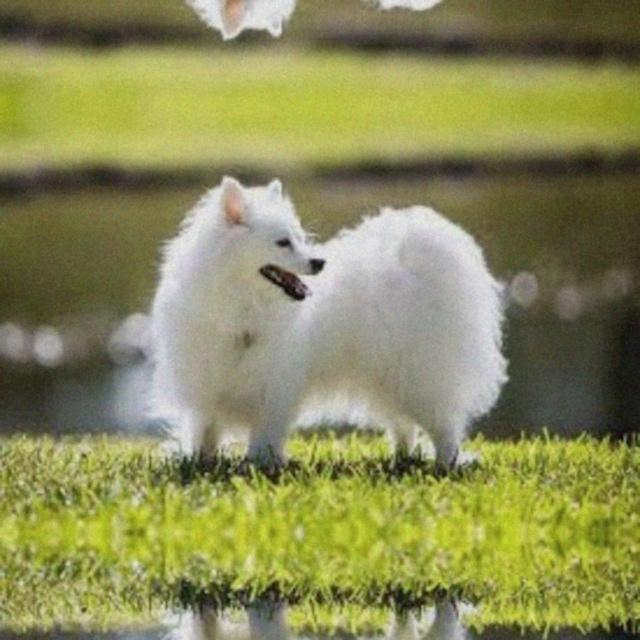dog: (118, 172, 518, 474), (118, 591, 518, 640), (118, 0, 518, 42)
